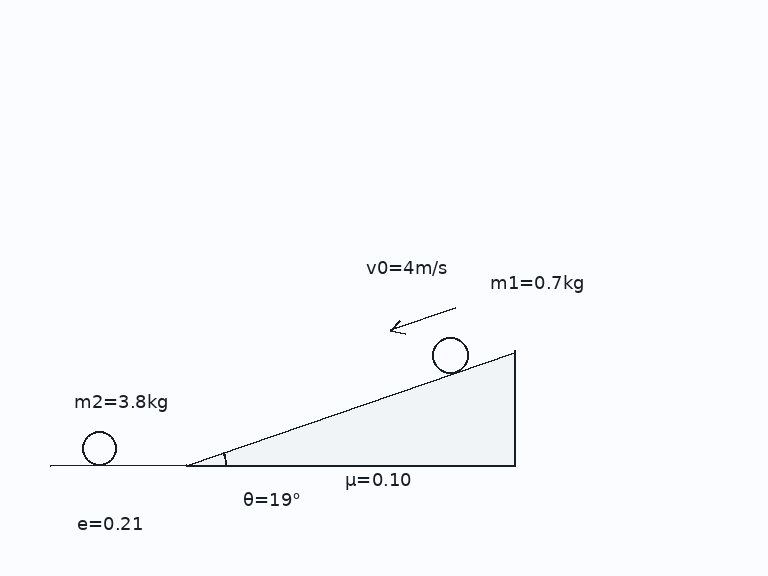ball: (430, 335, 470, 375), (80, 429, 118, 467)
ramp: (184, 350, 516, 467)
